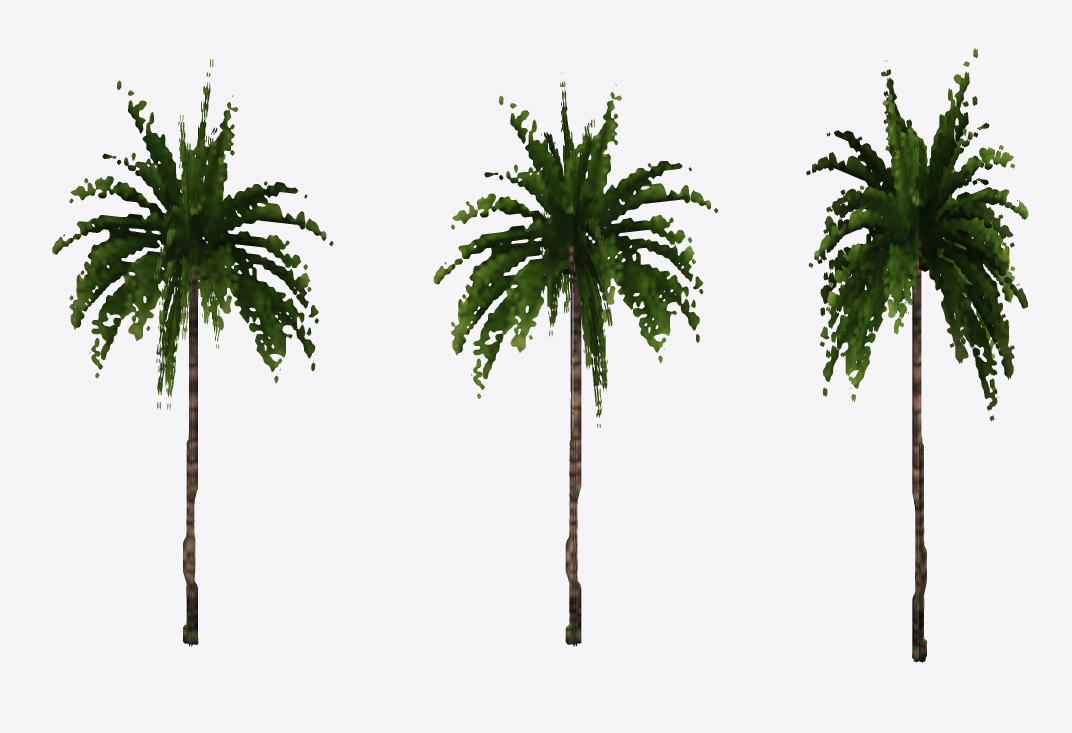
File: tree038.fbx
The picture shows the model from 3 angles, left to right: view 1: azimuth 30°, elevation 25°; view 2: azimuth 150°, elevation 25°; view 3: azimuth 270°, elevation 25°; orthographic projection. The views are drawn at different scales.
Parts seen in each view (by area): view 1: tree038; view 2: tree038; view 3: tree038.
Boxes of the visible parts, bbox=[...] form: tree038: bbox=[52, 59, 333, 646]; tree038: bbox=[433, 72, 718, 646]; tree038: bbox=[806, 48, 1028, 662].
Size of the model in its own units: 214 by 509 by 214.
Materials: 1 (1 with a texture image).
